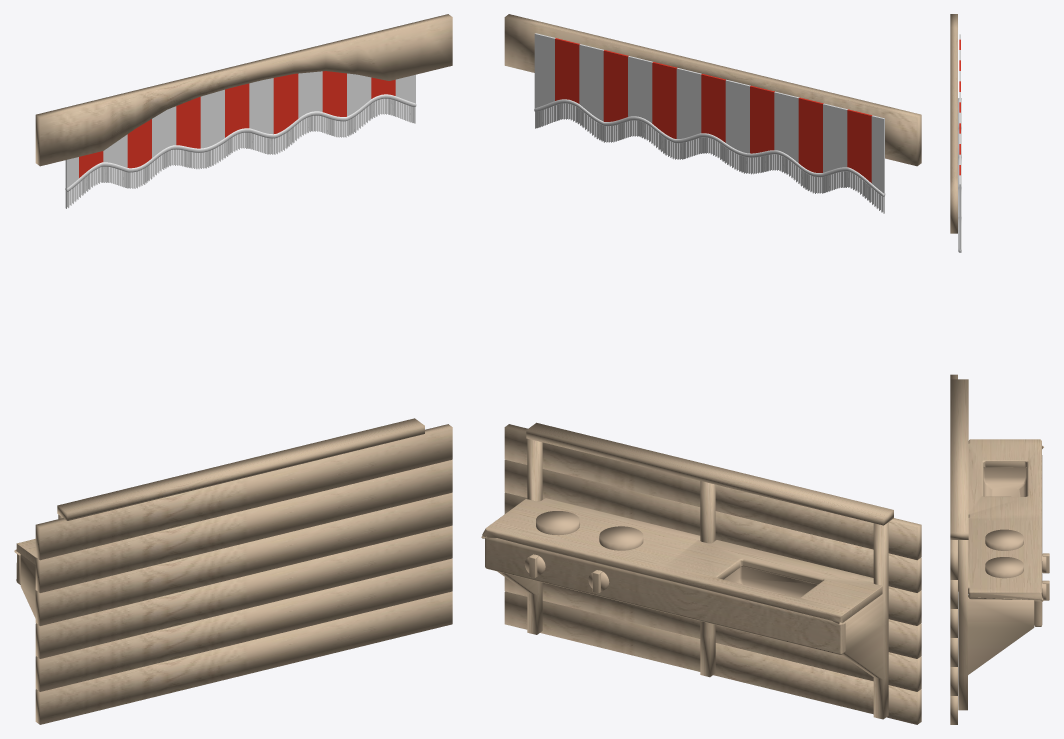
Rendered from KK__tall.ea1e8904.glb.
3 views of the same model, side by side, from view 1: azimuth 30°, elevation 25°; view 2: azimuth 150°, elevation 25°; view 3: azimuth 270°, elevation 25° (orthographic). The views are drawn at different scales.
Parts seen in each view (by area): view 1: Cube216,_colorize_, Cube216_1, Cube216_2, Cube216_3; view 2: Cube216,_colorize_, Cube216_1, Cube216_2, Cube216_3; view 3: Cube216,_colorize_, Cube216_1.
Part boxes in pixels (x1,y1,x2,y2): Cube216,_colorize_: (14,14,452,724); Cube216_1: (65,71,416,191); Cube216_2: (79,71,395,177); Cube216_3: (65,98,415,208); Cube216,_colorize_: (481,14,921,724); Cube216_1: (534,33,885,196); Cube216_2: (555,38,872,182); Cube216_3: (535,103,884,213); Cube216,_colorize_: (950,14,1049,724); Cube216_1: (958,34,961,252).
Size of the model in its own units: 1.36 by 1.91 by 0.3227.
Materials: 4 (2 with a texture image).
